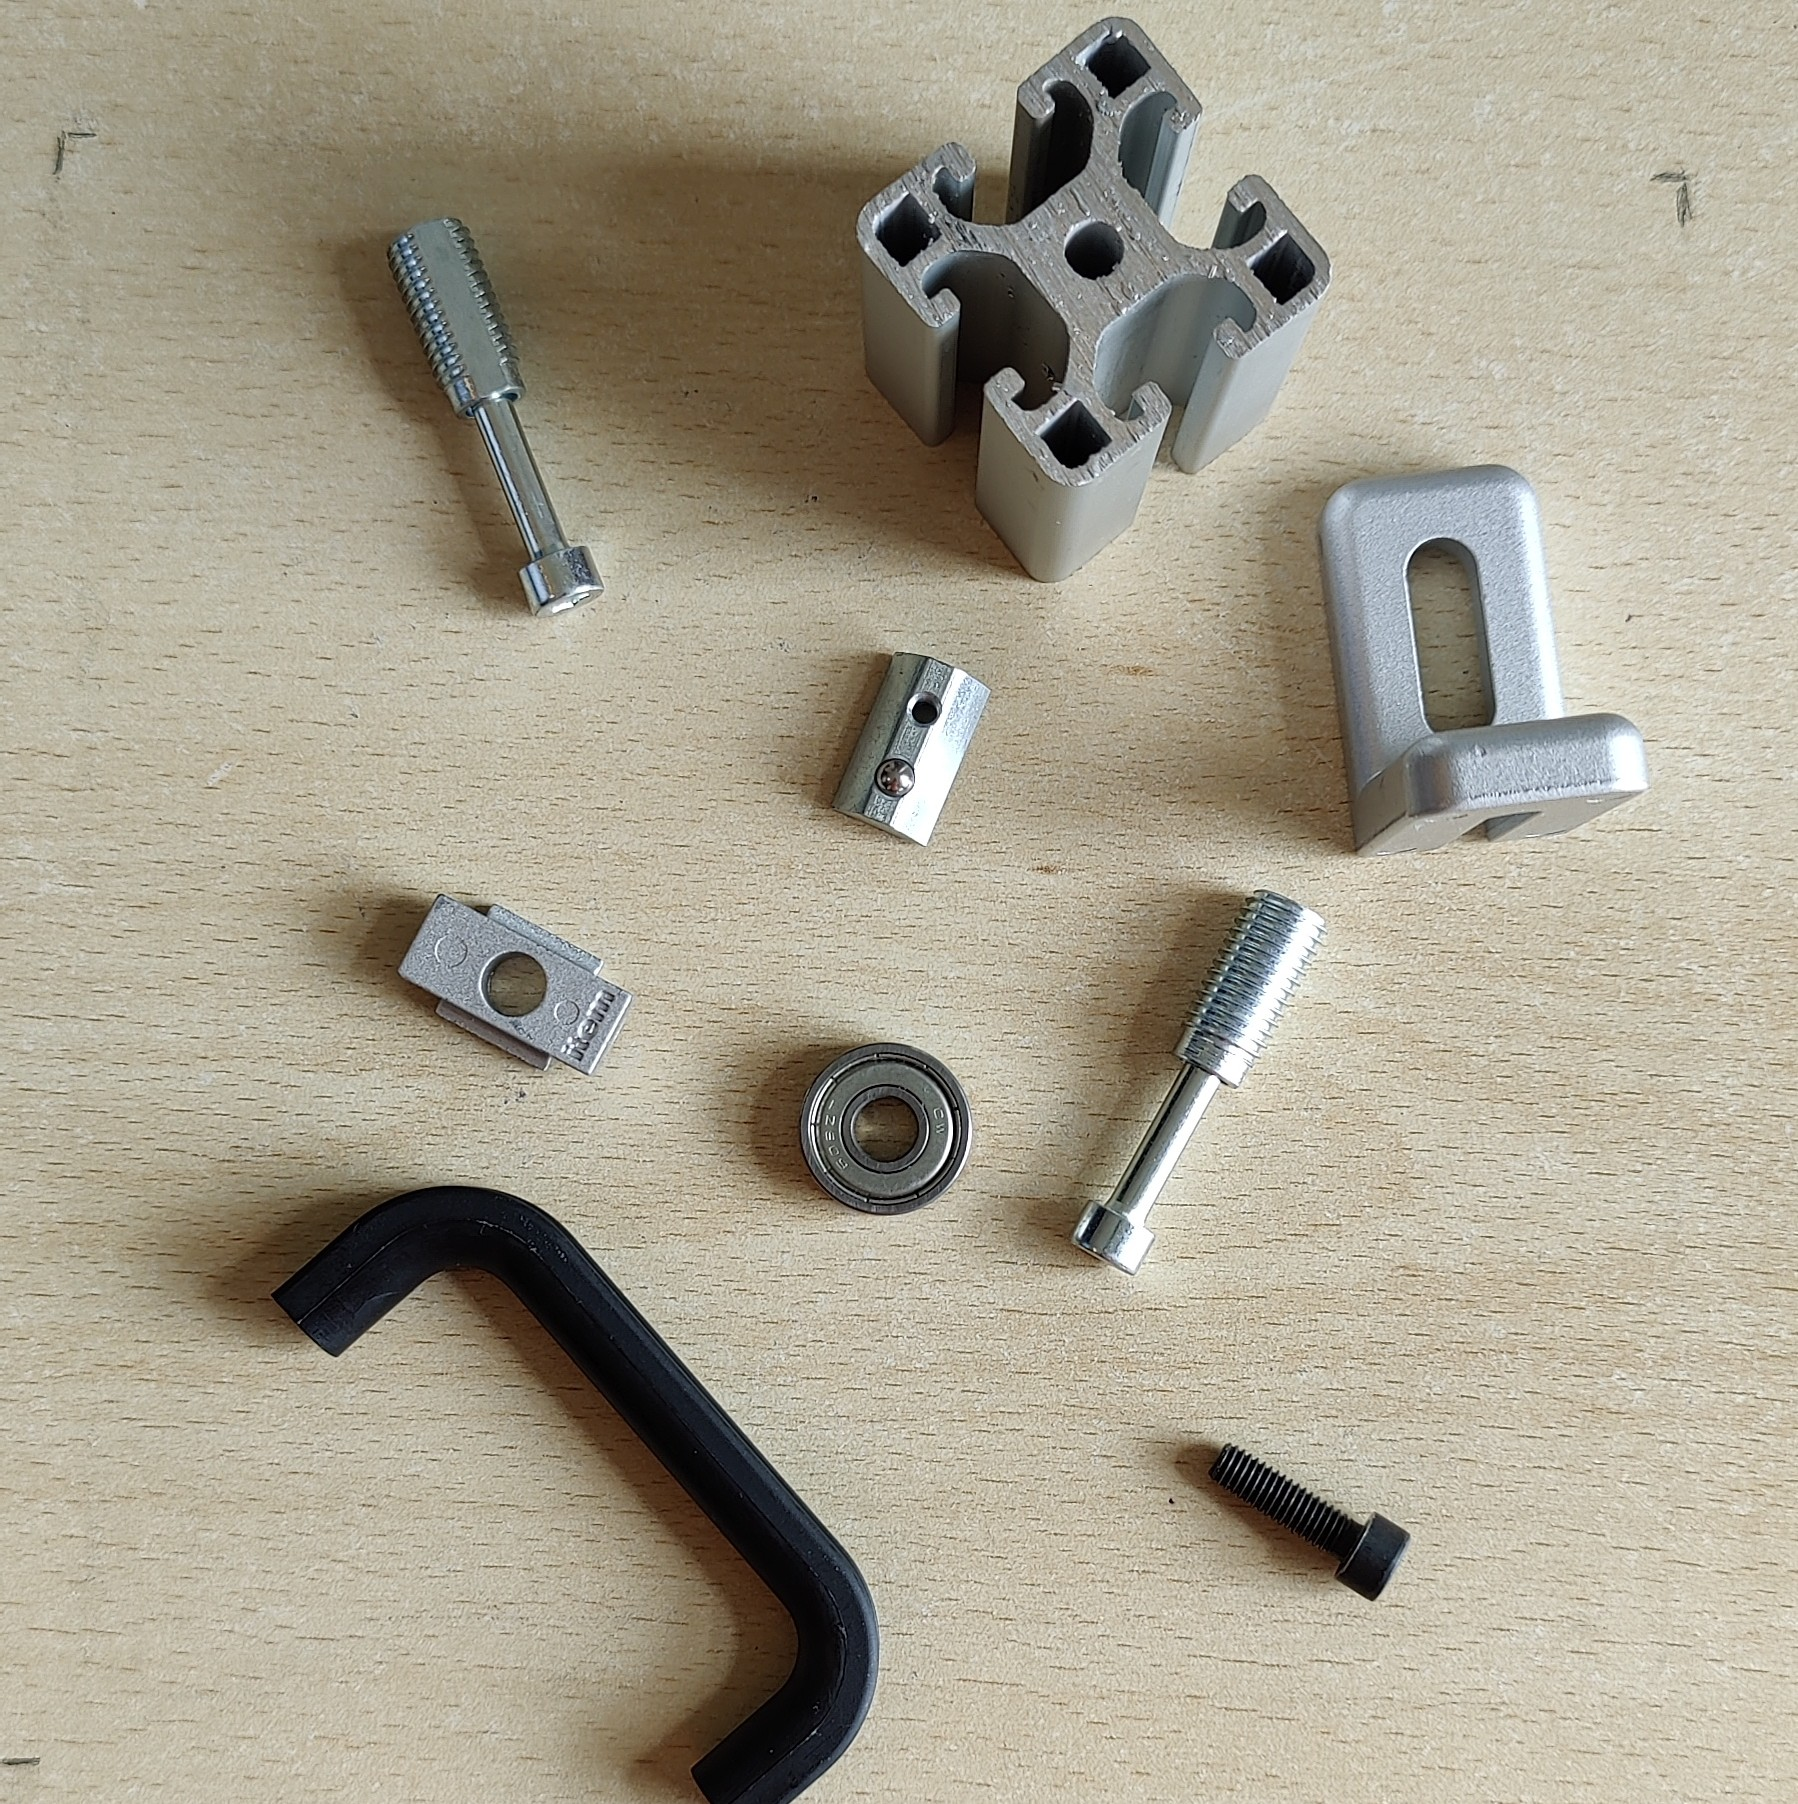Aluminium Extension: (851, 15, 1335, 584)
Ball Bearing: (795, 1040, 975, 1218)
Multiwinkel: (1317, 459, 1651, 862)
Pull Handle: (268, 1182, 884, 1804)
Shoulder Socket Head Cap Screw: (1060, 887, 1334, 1277), (384, 211, 609, 621)
Socket Head Cap Screw: (1202, 1439, 1414, 1606)
T Nut Square: (394, 890, 637, 1080)
T Spring Nut: (827, 649, 994, 849)
